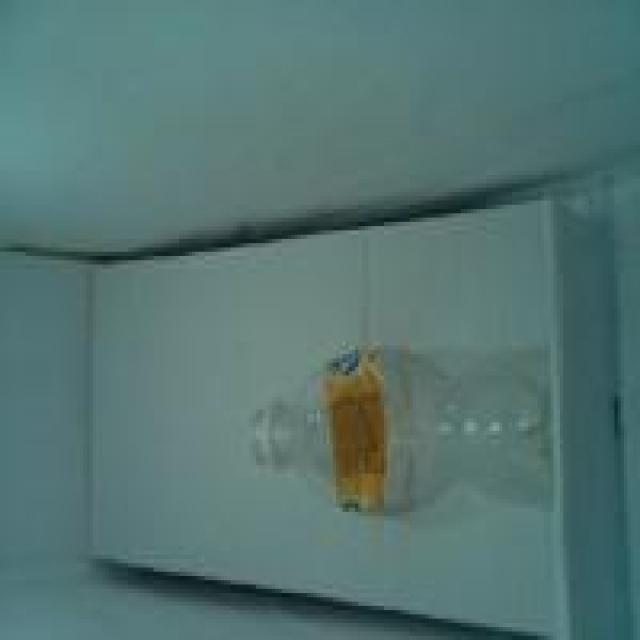bottle: (233, 331, 592, 535)
